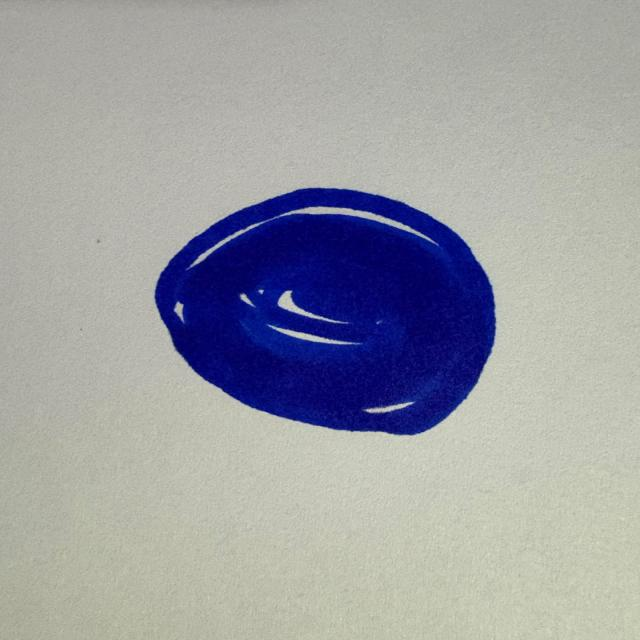Circle: (146, 182, 503, 441)
